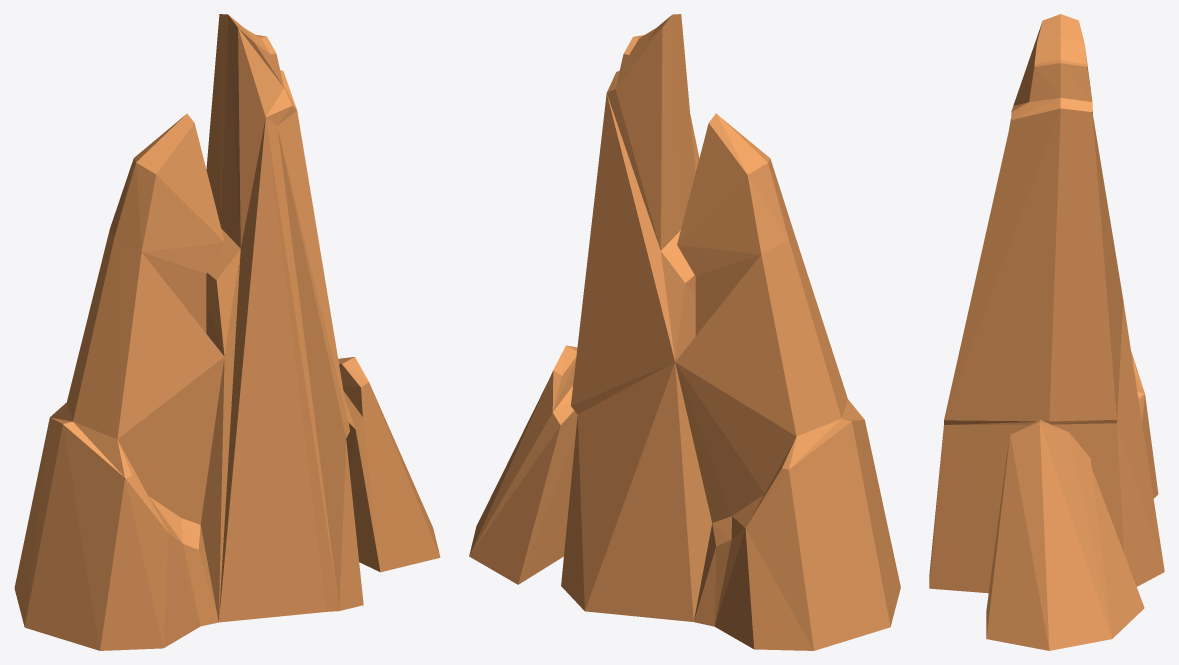
The model's file is Rock_Large_Canyon_Eroded_09.FBX.
3 views of the same model, side by side, from view 1: azimuth 30°, elevation 25°; view 2: azimuth 150°, elevation 25°; view 3: azimuth 270°, elevation 25° (orthographic). The views are drawn at different scales.
Parts seen in each view (by area): view 1: Rock_Large_Canyon_Eroded_09; view 2: Rock_Large_Canyon_Eroded_09; view 3: Rock_Large_Canyon_Eroded_09.
Part boxes in pixels (box(x1,y1,x2,y2)): Rock_Large_Canyon_Eroded_09: box(14, 14, 440, 650); Rock_Large_Canyon_Eroded_09: box(469, 14, 900, 650); Rock_Large_Canyon_Eroded_09: box(929, 14, 1164, 650).
Size of the model in its own units: 10479 by 13668 by 5381.
